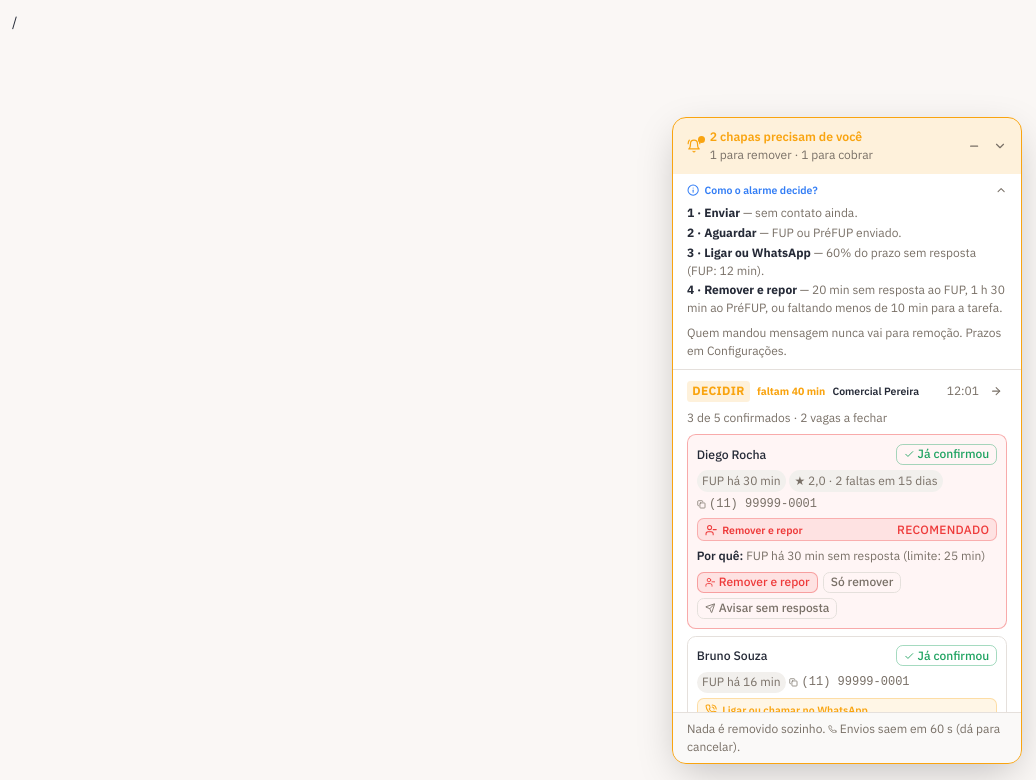
Test: PainelDeAlarme › 'Como o alarme decide?' abre na 1ª vez com os prazos configurados e lembra que foi visto
The width and height of the screenshot is (1036, 780).
Expected: the list item "20 min sem resposta ao FUP, 1 h 30 min ao PréFUP" is shown, [687,281,1007,317]
Click the button "Como o alarme decide?" at (761, 190), box [687,183,1007,197]
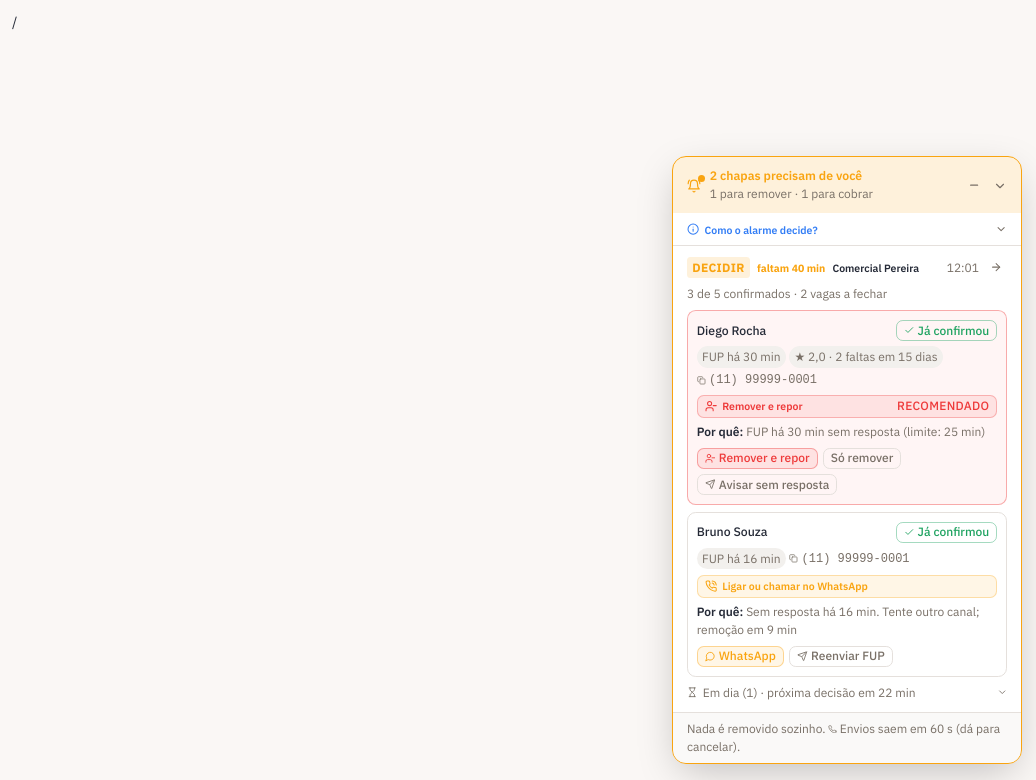
Expected: the list item "20 min sem resposta ao FUP" is gone
